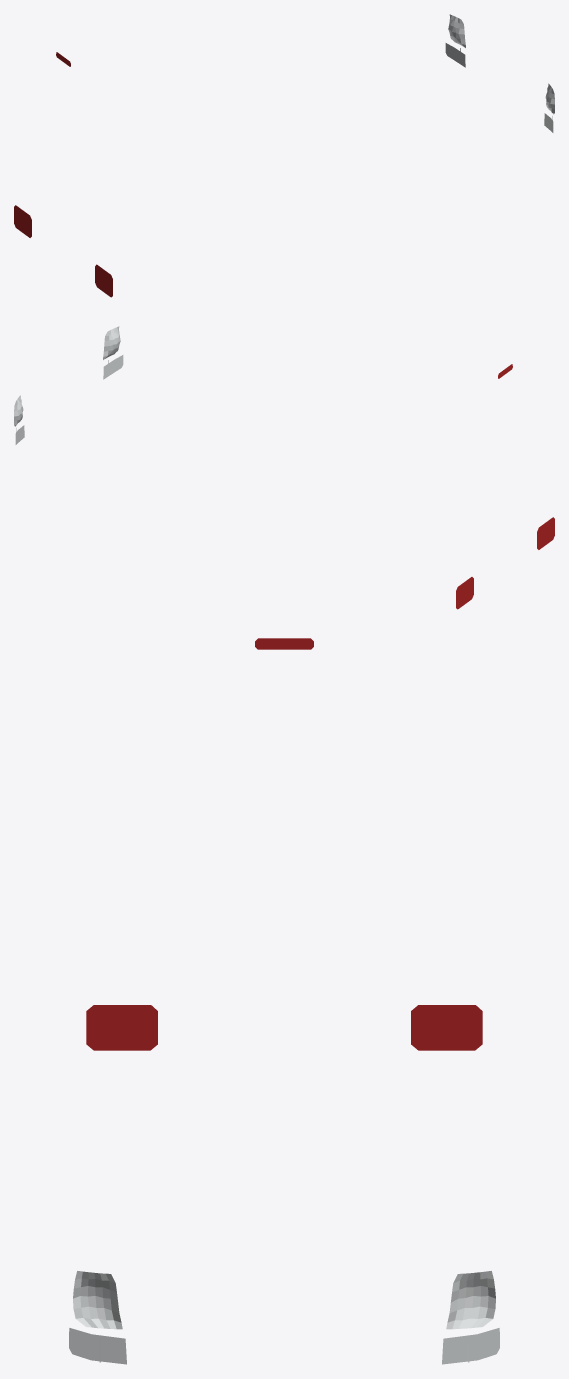
The model's file is every-da64v-blockout-88-lamps.glb.
3 views of the same model, one above another, from view 1: azimuth 30°, elevation 25°; view 2: azimuth 150°, elevation 25°; view 3: azimuth 270°, elevation 25° (orthographic). The views are drawn at different scales.
Parts seen in each view (by area): view 1: Left_Headlight_Reflector, Right_Tail_Lamp, Left_Tail_Lamp; view 2: Right_Headlight_Reflector, Left_Tail_Lamp, Right_Tail_Lamp; view 3: Left_Tail_Lamp, Right_Tail_Lamp, Left_Headlight_Reflector, Right_Headlight_Reflector, Left_Headlight_Lower_Clear, Right_Headlight_Lower_Clear.
Boxes of the visible parts, left/top/right/bottom form: Left_Headlight_Reflector: left=448, top=14, right=465, bottom=47; Right_Tail_Lamp: left=95, top=264, right=112, bottom=297; Left_Tail_Lamp: left=14, top=205, right=31, bottom=237; Right_Headlight_Reflector: left=103, top=326, right=120, bottom=359; Left_Tail_Lamp: left=456, top=577, right=473, bottom=609; Right_Tail_Lamp: left=537, top=517, right=554, bottom=549; Left_Tail_Lamp: left=411, top=1005, right=482, bottom=1050; Right_Tail_Lamp: left=86, top=1005, right=157, bottom=1050; Left_Headlight_Reflector: left=446, top=1271, right=495, bottom=1329; Right_Headlight_Reflector: left=73, top=1271, right=122, bottom=1329; Left_Headlight_Lower_Clear: left=442, top=1328, right=499, bottom=1364; Right_Headlight_Lower_Clear: left=69, top=1328, right=126, bottom=1364.
Size of the model in its own units: 3.34 by 1.49 by 1.41.
